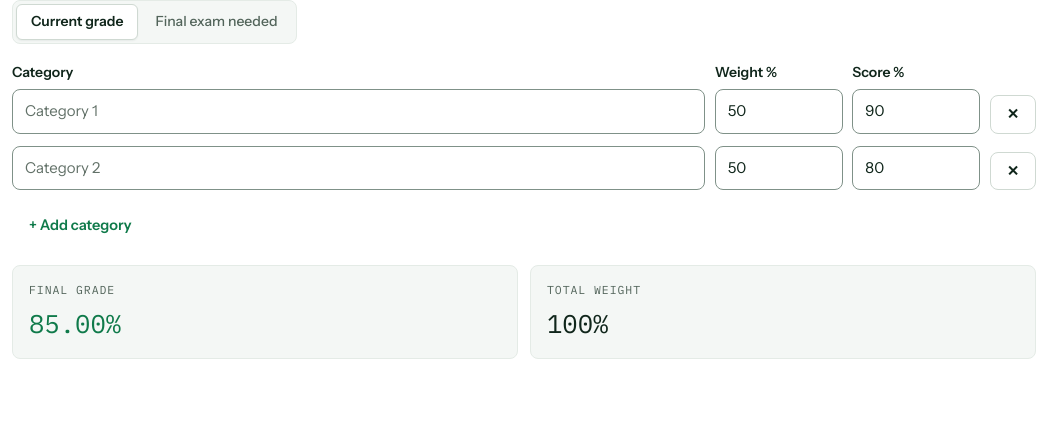
it: GradeCalculator › adds and removes categories
The width and height of the screenshot is (1048, 433).
Click the button "+ Add category" at (80, 226), box [12, 206, 149, 245]
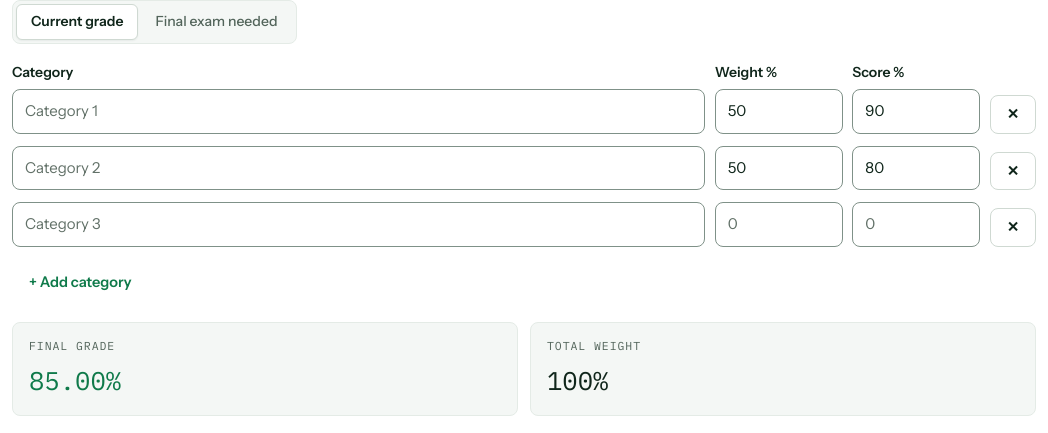
Result: the number of buttons titled "Remove category" is 3
Click the 3rd button titled "Remove category" at (1013, 227), box [990, 208, 1036, 247]
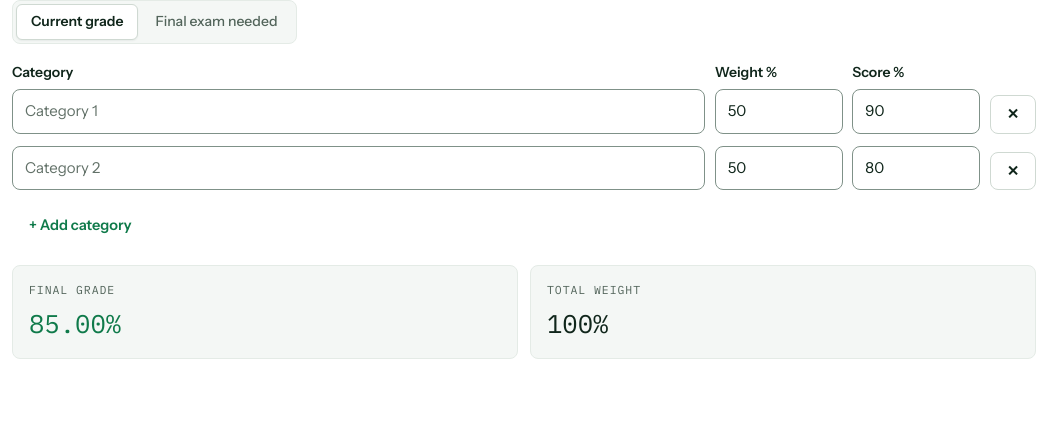
Result: the number of buttons titled "Remove category" is 2 at [990, 95, 1036, 134]; [990, 152, 1036, 190]
